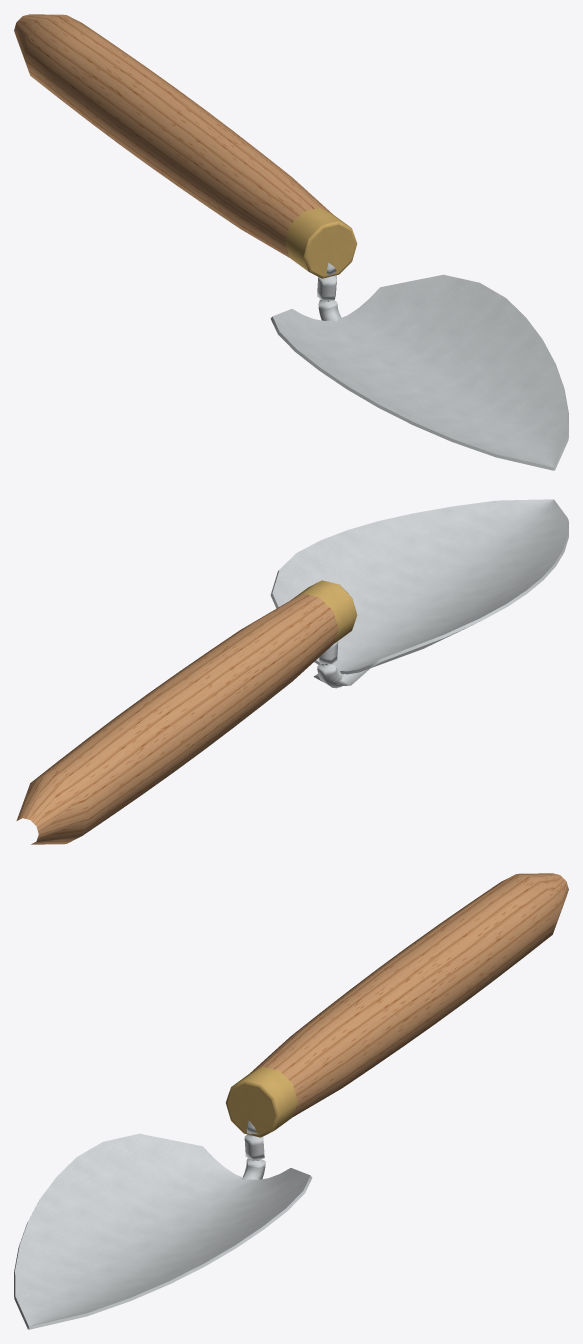
File: dig_trowel.lod2.glb
3 renders of one model, top to bottom at view 1: azimuth 30°, elevation 25°; view 2: azimuth 150°, elevation 25°; view 3: azimuth 330°, elevation 25°, orthographic.
Visible parts, largest first — view 1: Tool; view 2: Tool; view 3: Tool.
Boxes of the visible parts, x1,y1,x2,y2 form: Tool: (14, 14, 568, 470); Tool: (16, 499, 568, 844); Tool: (14, 873, 568, 1329).
Size of the model in its own units: 0.1014 by 0.0543 by 0.4362.
3 materials, 3 textured.
